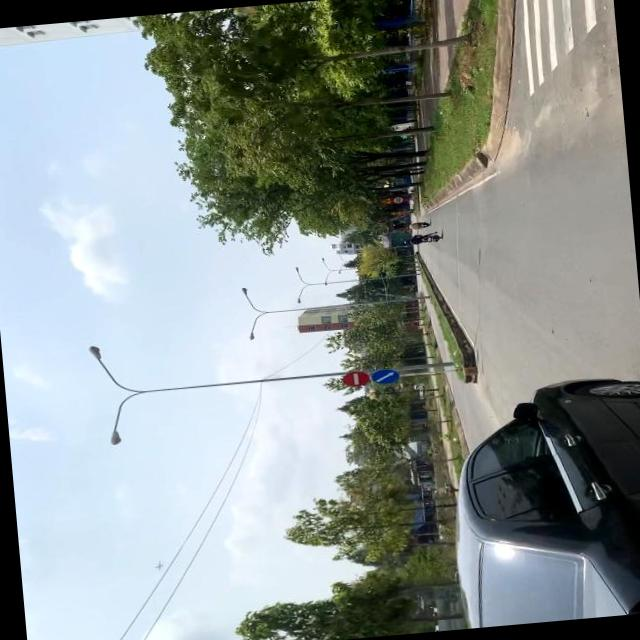P-102: (338, 368, 369, 387)
R-302a: (369, 366, 400, 384)
